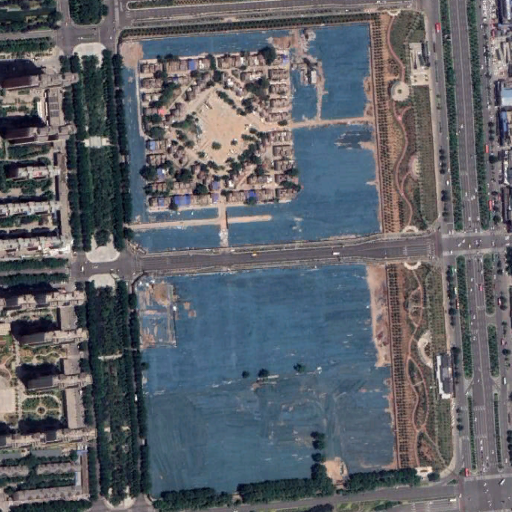cw: (135, 258, 400, 496), (115, 23, 387, 253)
